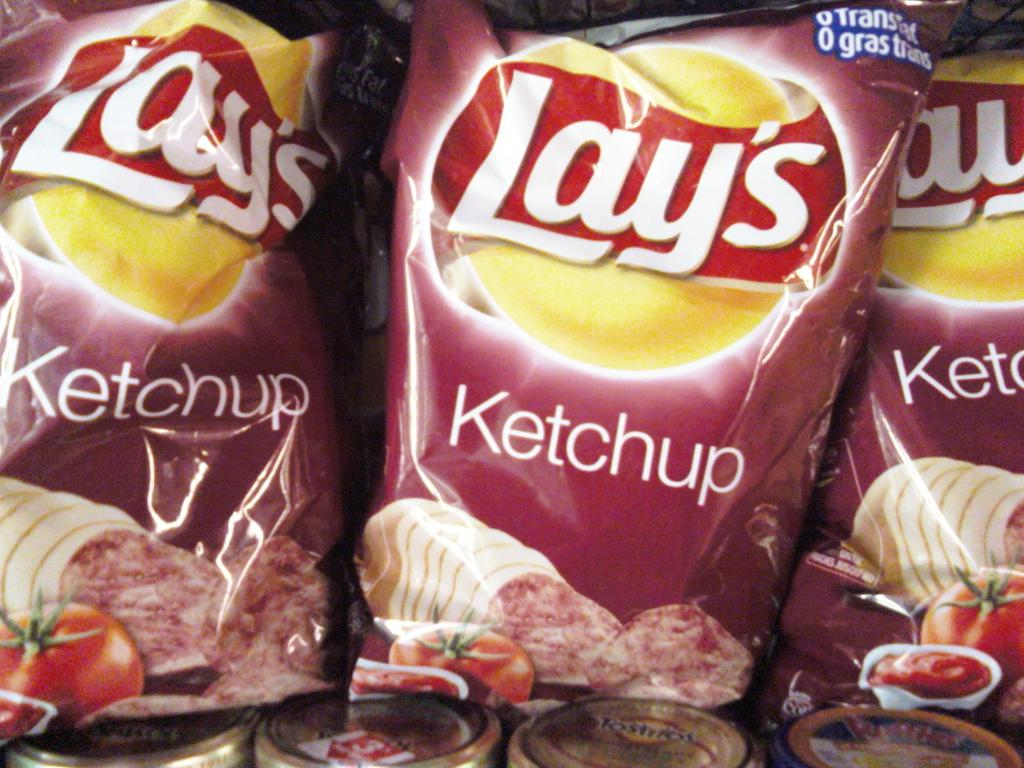Tomato: (387, 604, 535, 705), (16, 613, 129, 730), (921, 552, 1023, 675)
